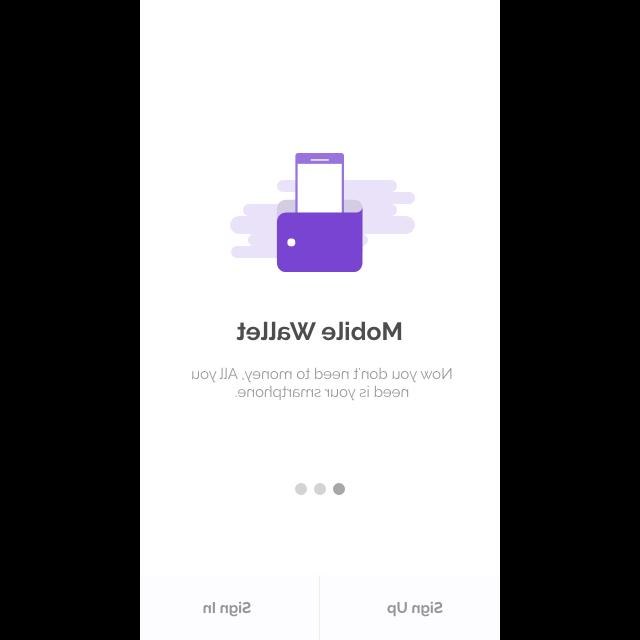image: (229, 153, 415, 273)
pageindicator: (294, 482, 346, 496)
text: (192, 367, 452, 401), (236, 322, 400, 342), (386, 600, 442, 618), (202, 600, 252, 618)
